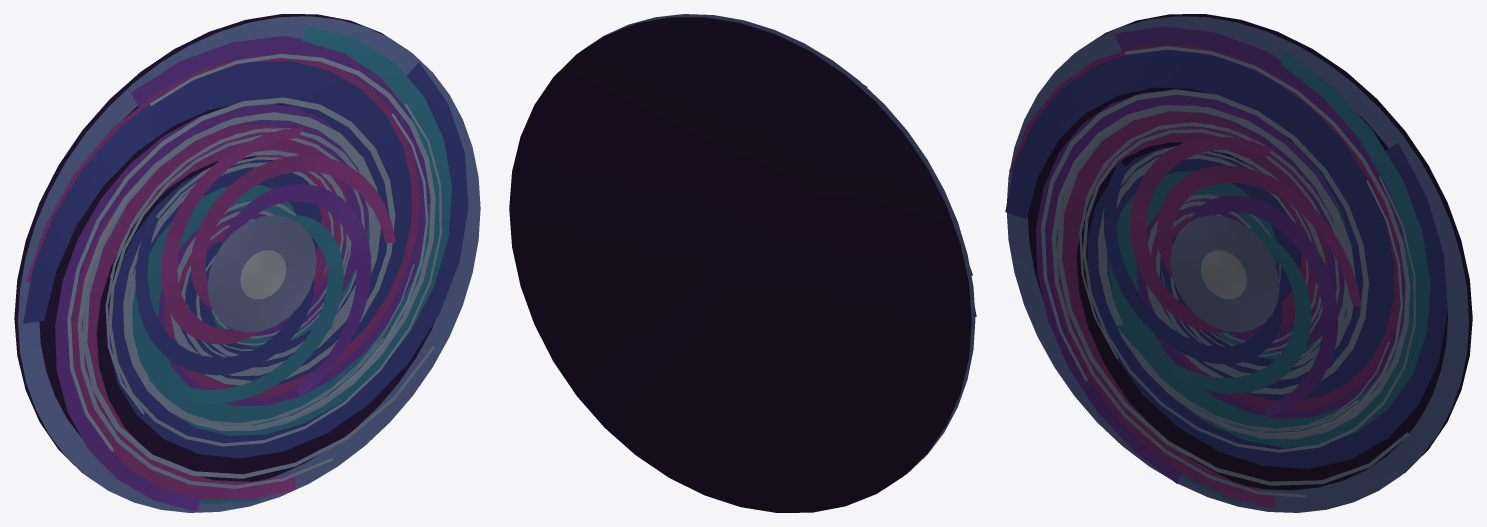
Rendered from portal_swirl.glb.
The picture shows the model from 3 angles, left to right: view 1: azimuth 30°, elevation 25°; view 2: azimuth 150°, elevation 25°; view 3: azimuth 330°, elevation 25°; orthographic projection.
Parts seen in each view (by area): view 1: arm0; view 2: arm0; view 3: arm0.
Boxes of the visible parts, box(x1,y1,x2,y2) form: arm0: box(14, 14, 480, 512); arm0: box(509, 14, 976, 512); arm0: box(1005, 14, 1472, 512).
Size of the model in its own units: 2.2 by 2.2 by 0.145.
